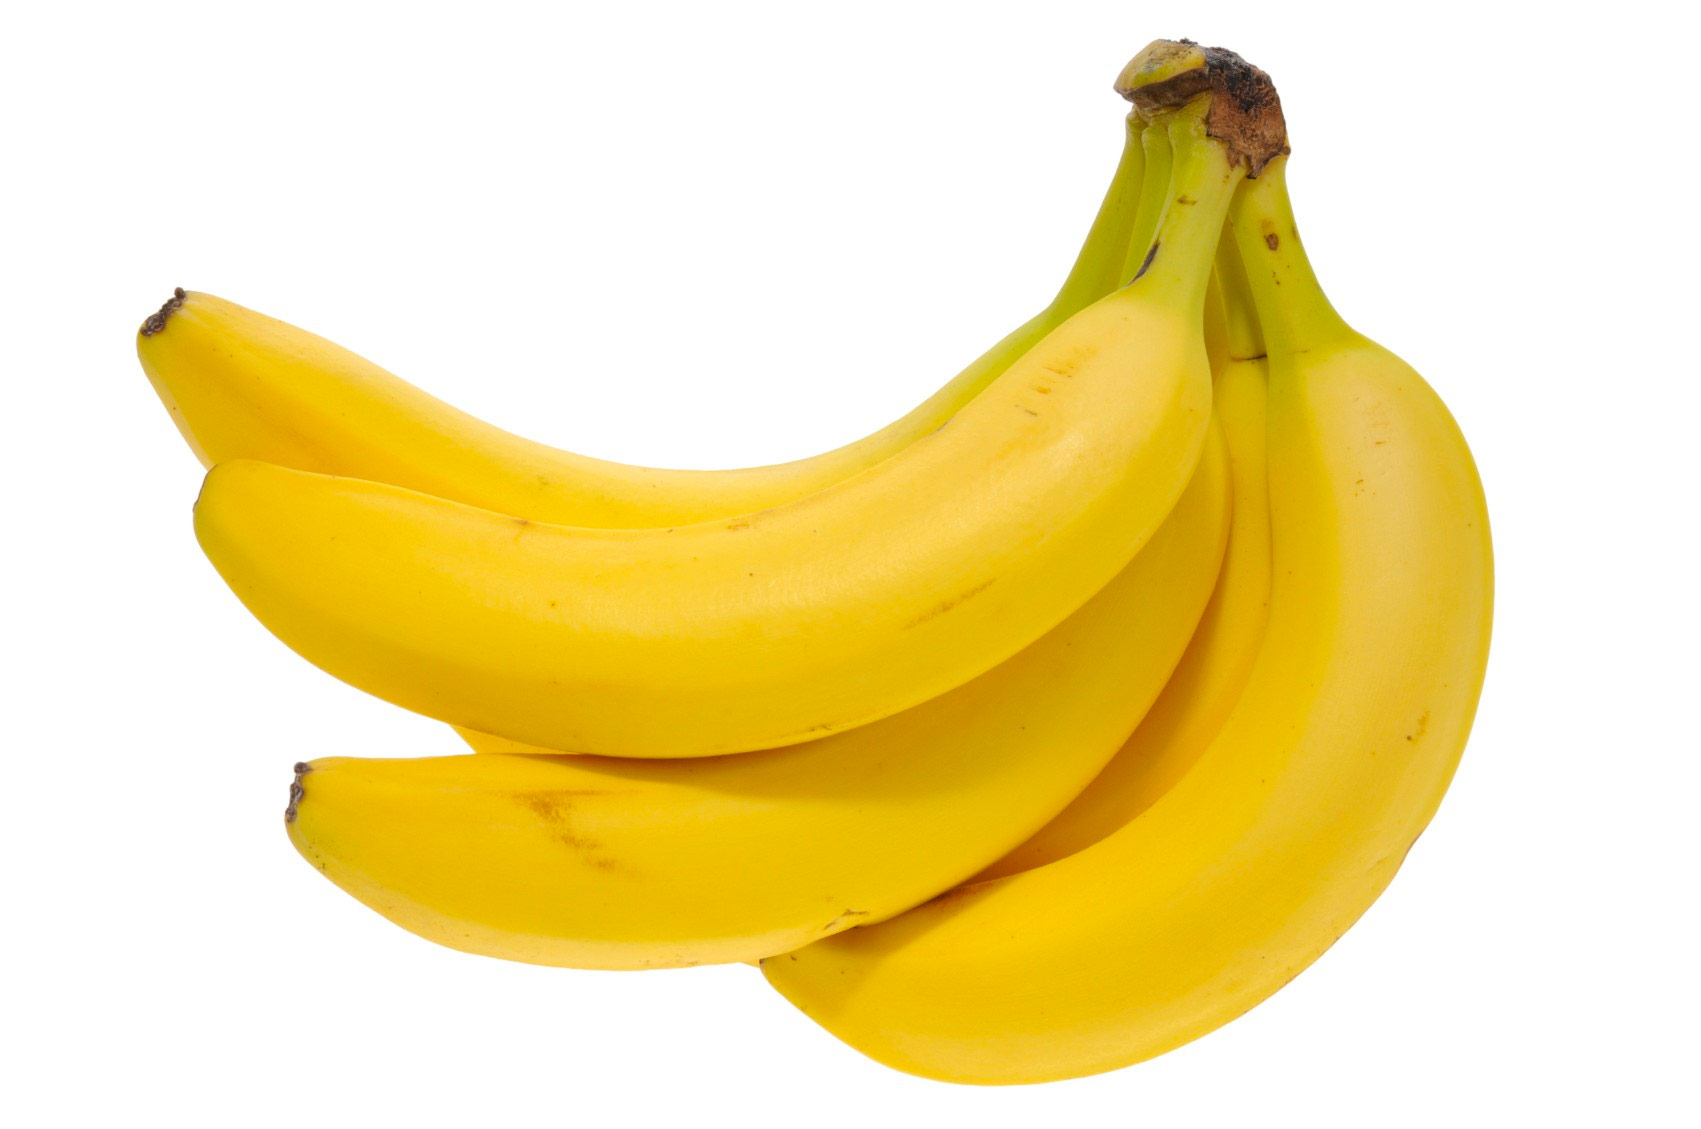looks_good: (19, 48, 1598, 1129)
